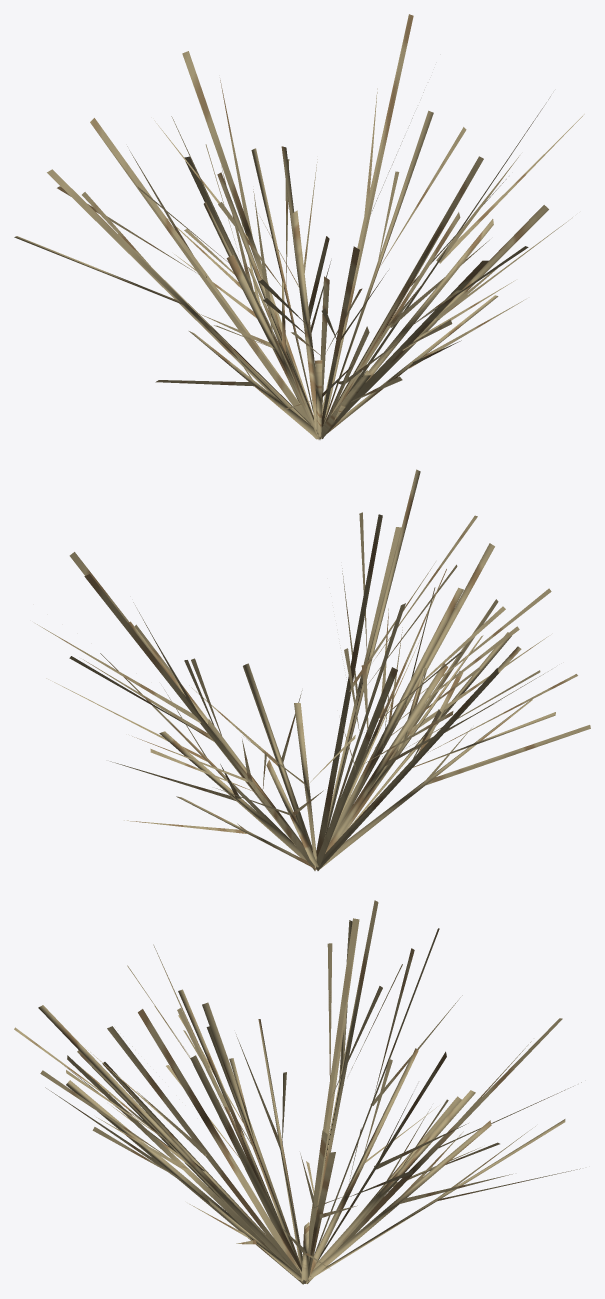
File: dry-bush-lod.obj
The picture shows the model from 3 angles, top to bottom: view 1: azimuth 30°, elevation 25°; view 2: azimuth 150°, elevation 25°; view 3: azimuth 270°, elevation 25°; orthographic projection. The views are drawn at different scales.
Visible parts, largest first — view 1: dry-bush.001; view 2: dry-bush.001; view 3: dry-bush.001.
Part boxes in pixels (bbox=[...]): dry-bush.001: bbox=[14, 14, 584, 439]; dry-bush.001: bbox=[35, 469, 590, 870]; dry-bush.001: bbox=[14, 900, 581, 1284].
Size of the model in its own units: 1.45 by 0.8011 by 1.35.
Materials: 1 (1 with a texture image).
